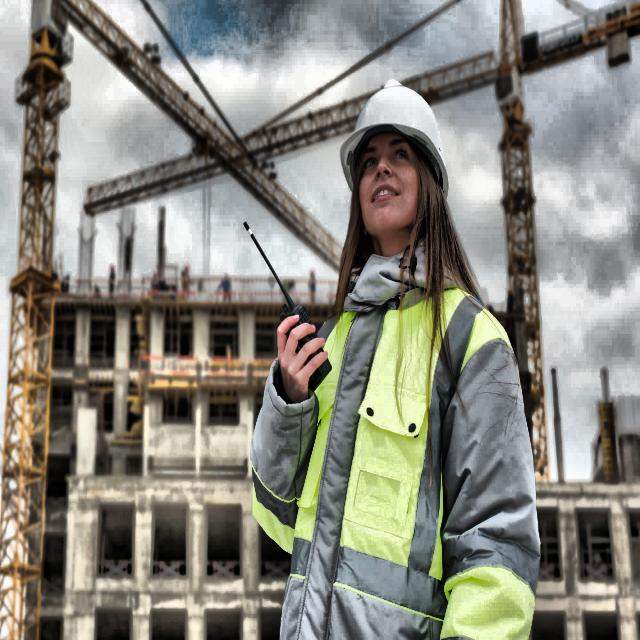safety_helmet: (336, 70, 447, 152)
safety_jacket: (302, 300, 525, 640)
